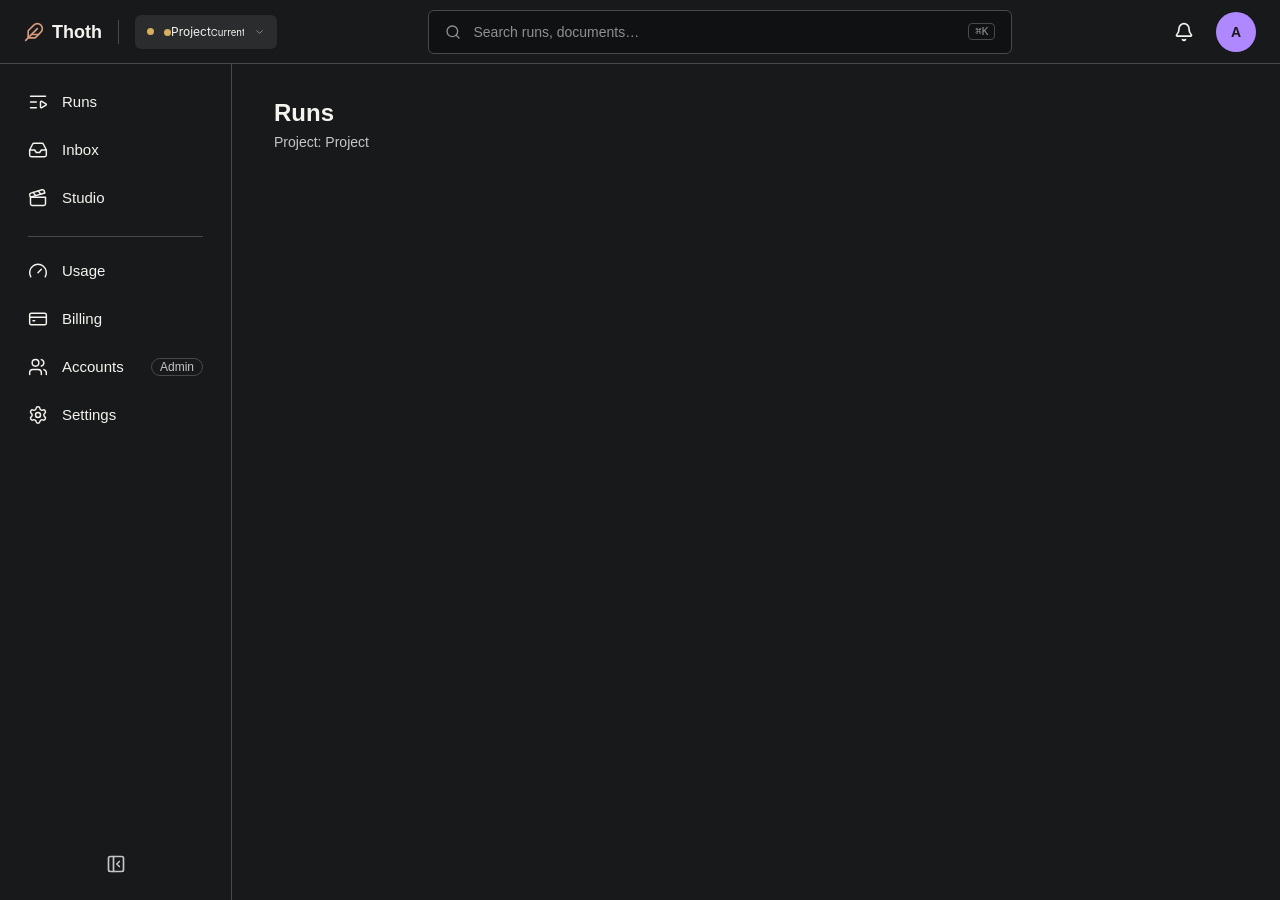
Test case: search navigates to the selected workspace page and closes its dialog
Click the button "Search runs, documents… ⌘K" at (556, 32), box [428, 10, 1012, 54]
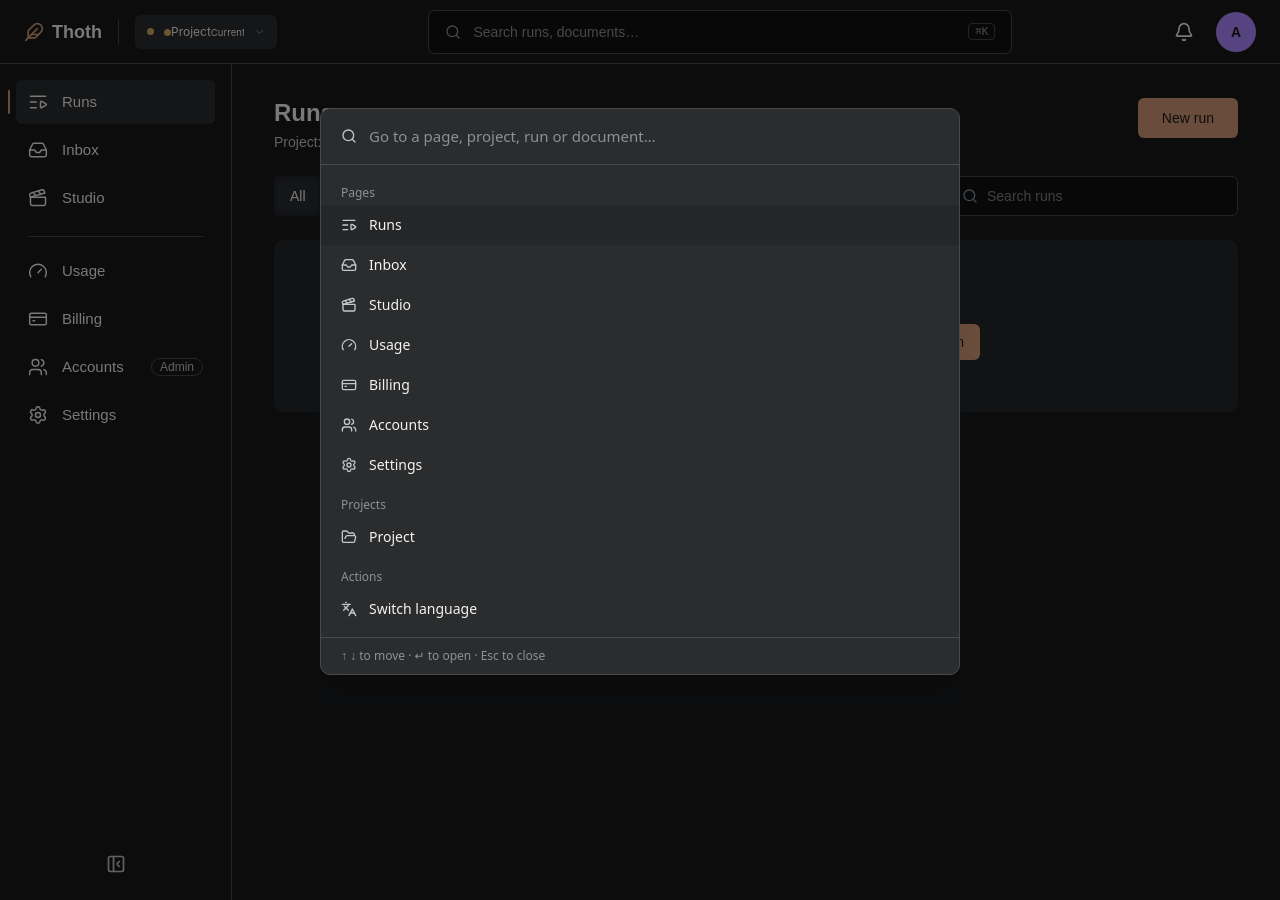
Click the option "Studio" at (390, 304), box [321, 284, 959, 324]
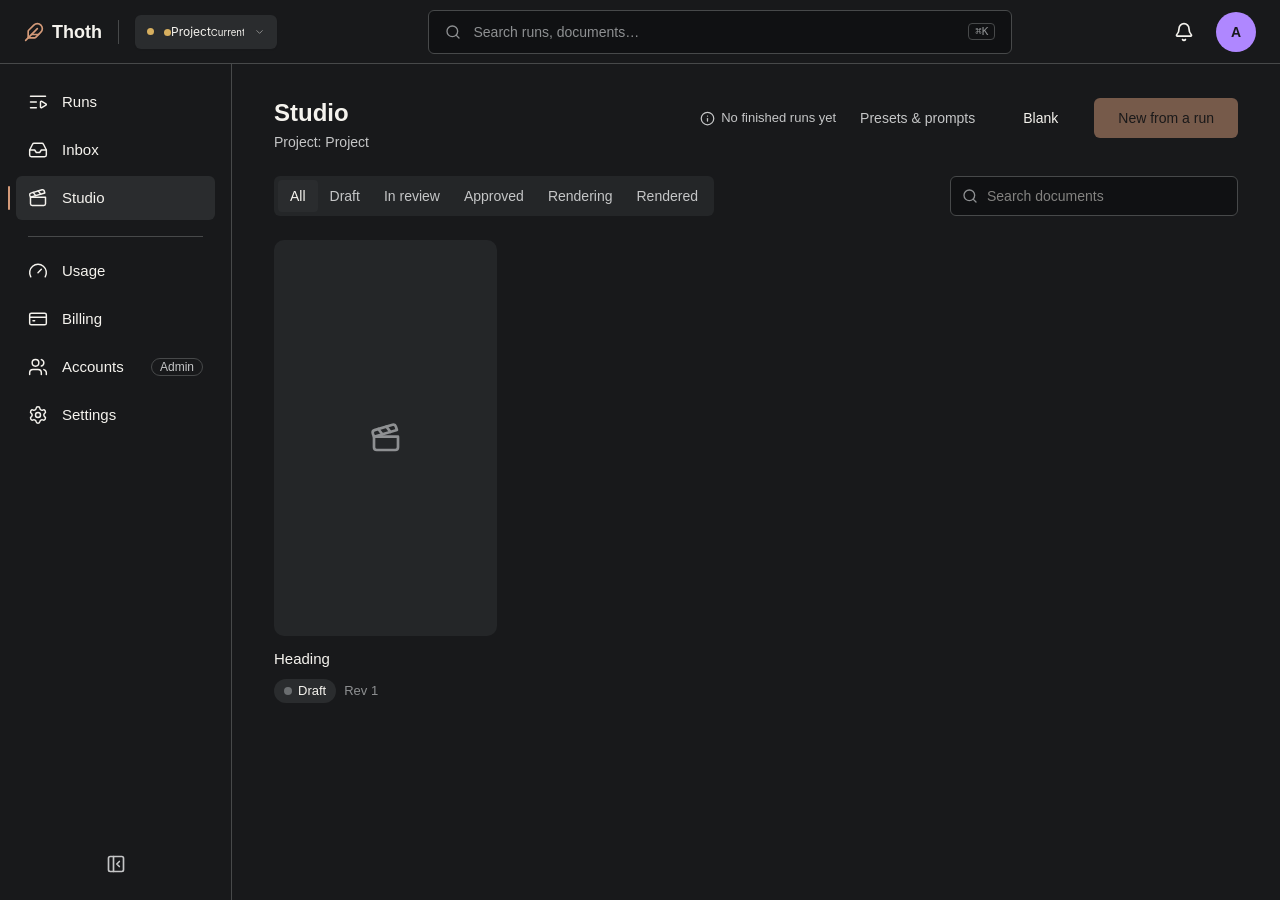
Now the heading "Studio" is shown, box [274, 99, 349, 126]
